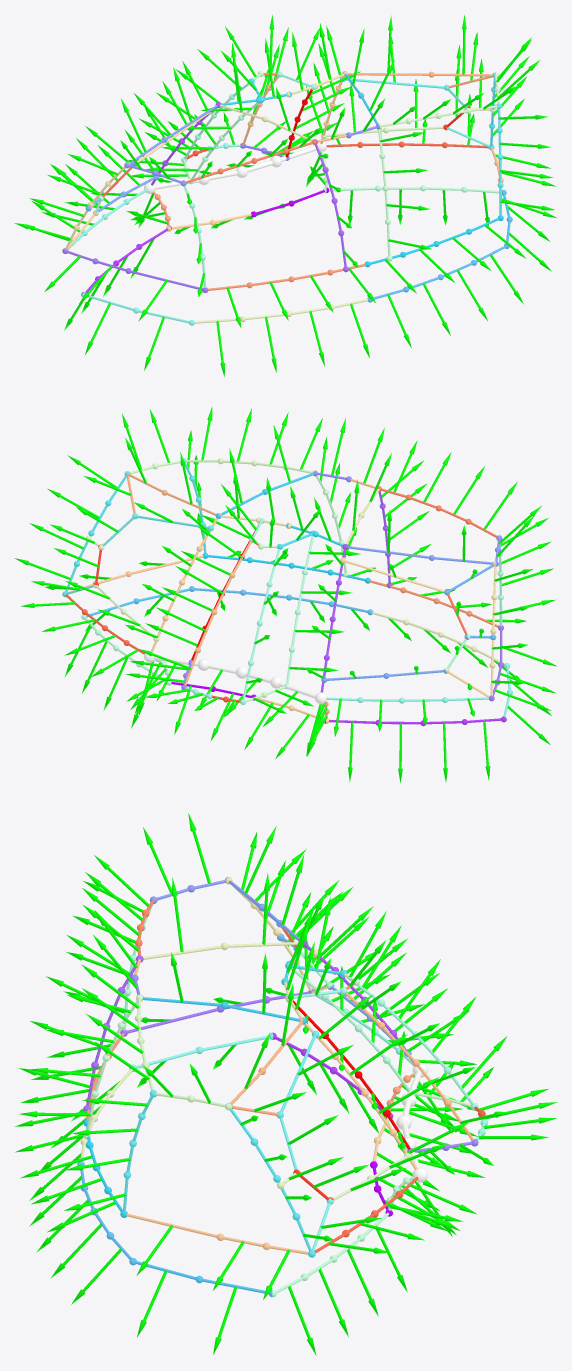
File: ils_speaker.gltf
The picture shows the model from 3 angles, top to bottom: view 1: azimuth 30°, elevation 25°; view 2: azimuth 150°, elevation 25°; view 3: azimuth 270°, elevation 25°; orthographic projection. The views are drawn at different scales.
Size of the model in its own units: 0.9676 by 0.4548 by 0.709.
